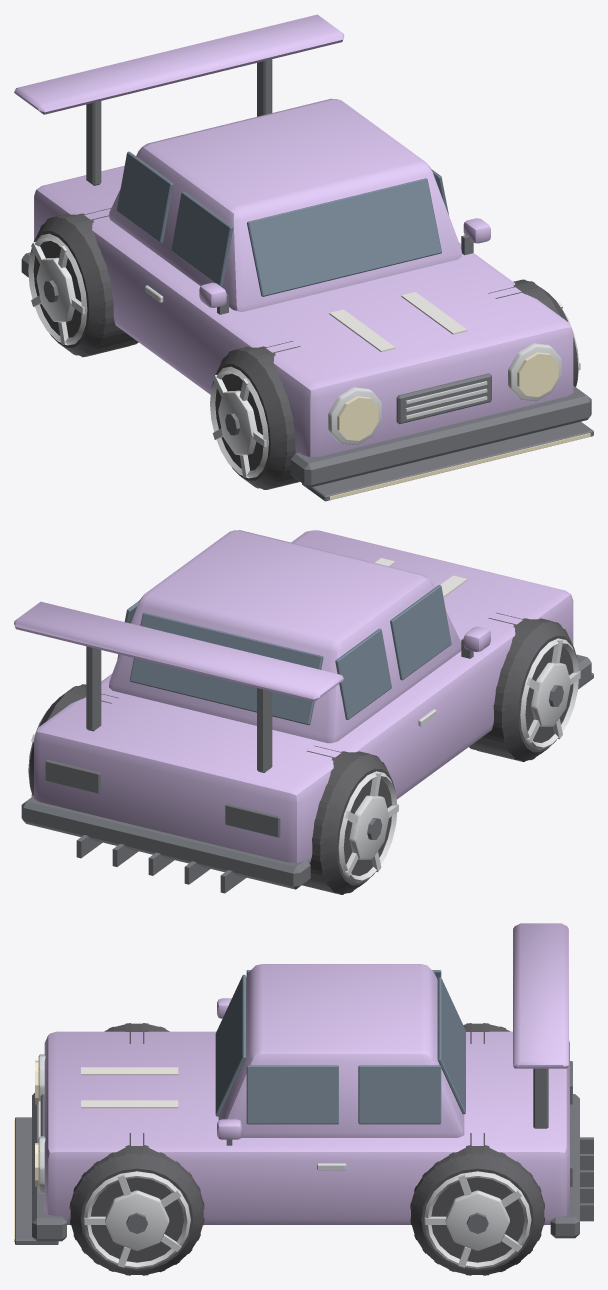
Rendered from street_racer.fbx.
The picture shows the model from 3 angles, top to bottom: view 1: azimuth 30°, elevation 25°; view 2: azimuth 150°, elevation 25°; view 3: azimuth 270°, elevation 25°; orthographic projection. The views are drawn at different scales.
Parts seen in each view (by area): view 1: Body, Glass, Trim, Metal, Wheel_RR, Wheel_FR, Light, Accent, Wheel_FL; view 2: Body, Trim, Glass, Metal, Wheel_FR, Wheel_RR, Wheel_RL; view 3: Body, Glass, Metal, Trim, Wheel_FL, Wheel_RL, Accent, Wheel_FR, Light.
Boxes of the visible parts, x1=… form: Body: x1=14, y1=14, x2=573, y2=457; Glass: x1=117, y1=151, x2=448, y2=296; Trim: x1=21, y1=59, x2=593, y2=501; Metal: x1=28, y1=233, x2=580, y2=478; Wheel_RR: x1=30, y1=208, x2=138, y2=357; Wheel_FR: x1=211, y1=341, x2=300, y2=489; Light: x1=329, y1=352, x2=590, y2=499; Accent: x1=329, y1=292, x2=467, y2=352; Wheel_FL: x1=488, y1=279, x2=578, y2=386; Body: x1=14, y1=530, x2=573, y2=863; Trim: x1=21, y1=638, x2=593, y2=893; Glass: x1=117, y1=585, x2=451, y2=725; Metal: x1=28, y1=638, x2=580, y2=883; Wheel_FR: x1=469, y1=612, x2=577, y2=761; Wheel_RR: x1=302, y1=745, x2=395, y2=894; Wheel_RL: x1=29, y1=684, x2=118, y2=795; Body: x1=44, y1=923, x2=569, y2=1224; Glass: x1=215, y1=970, x2=465, y2=1124; Metal: x1=38, y1=1054, x2=531, y2=1268; Trim: x1=15, y1=1061, x2=593, y2=1244; Wheel_FL: x1=69, y1=1133, x2=204, y2=1275; Wheel_RL: x1=410, y1=1133, x2=544, y2=1275; Accent: x1=81, y1=1067, x2=178, y2=1108; Wheel_FR: x1=104, y1=1023, x2=169, y2=1043; Light: x1=14, y1=1060, x2=38, y2=1242.
Bounding box in the file's own units: 3.64 × 2.48 × 5.96.
